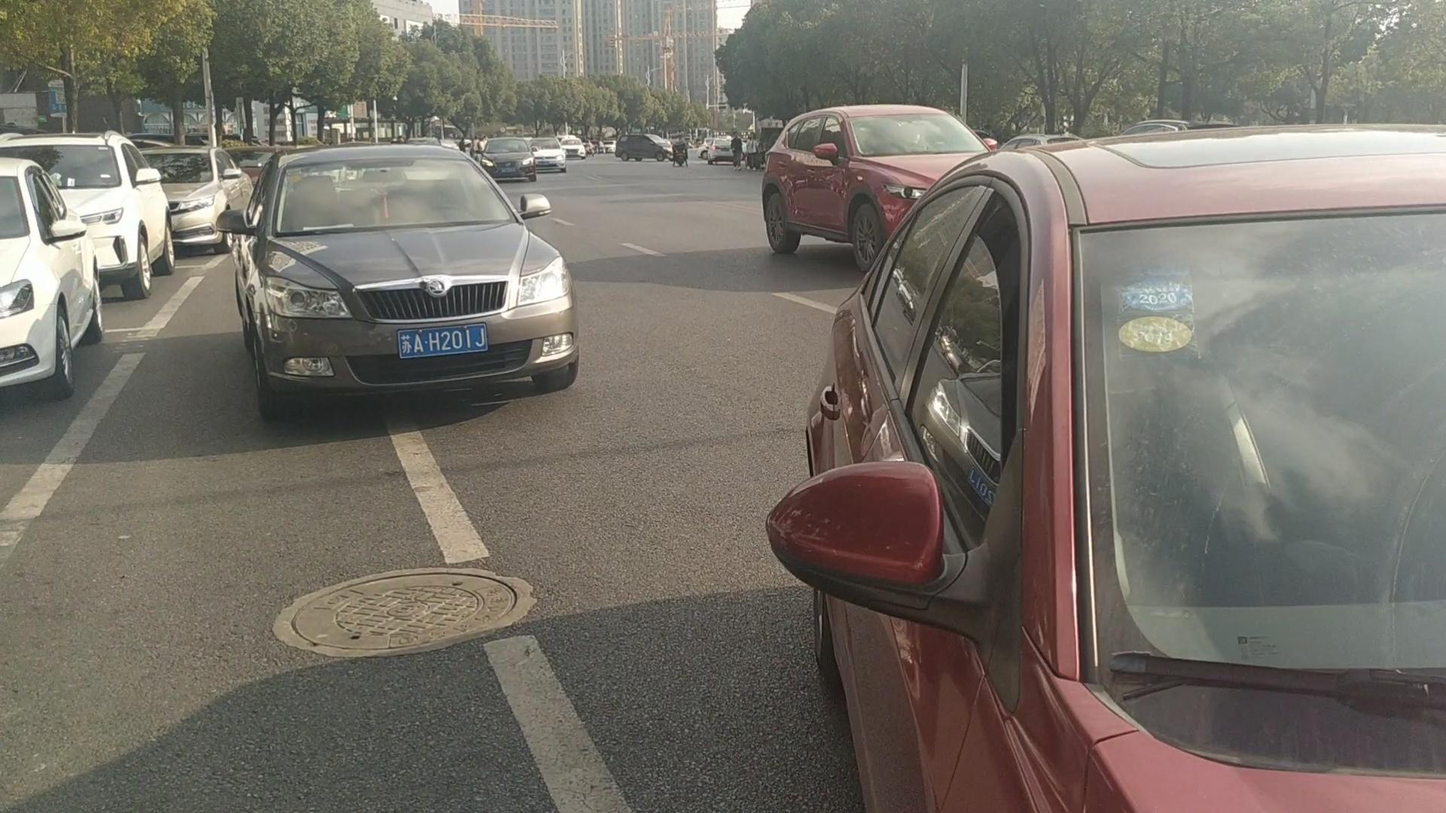car: (772, 123, 1442, 812), (218, 142, 582, 421), (760, 102, 996, 270), (0, 131, 175, 300), (0, 156, 103, 400), (126, 138, 253, 251), (480, 138, 535, 182), (615, 131, 670, 162), (532, 145, 568, 175), (697, 138, 730, 164), (557, 136, 586, 158)
